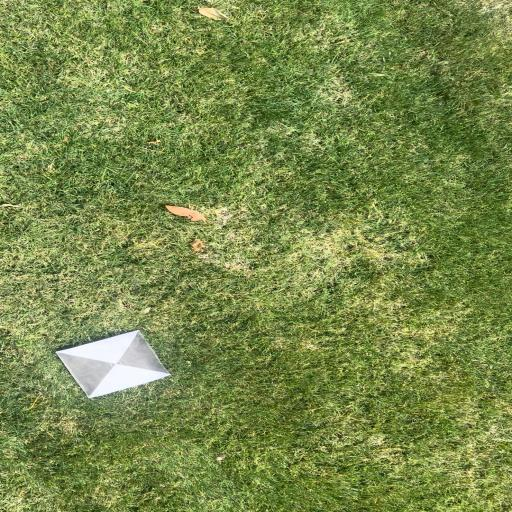target: (55, 332, 172, 397)
